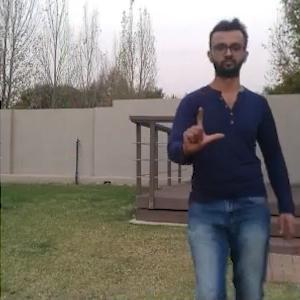land_hand: (175, 101, 224, 159)
